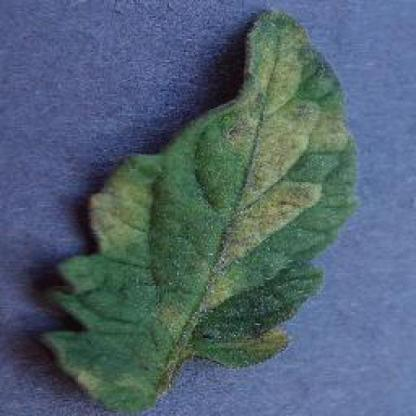Tomato_Leaf_Mold: (44, 6, 356, 404)
